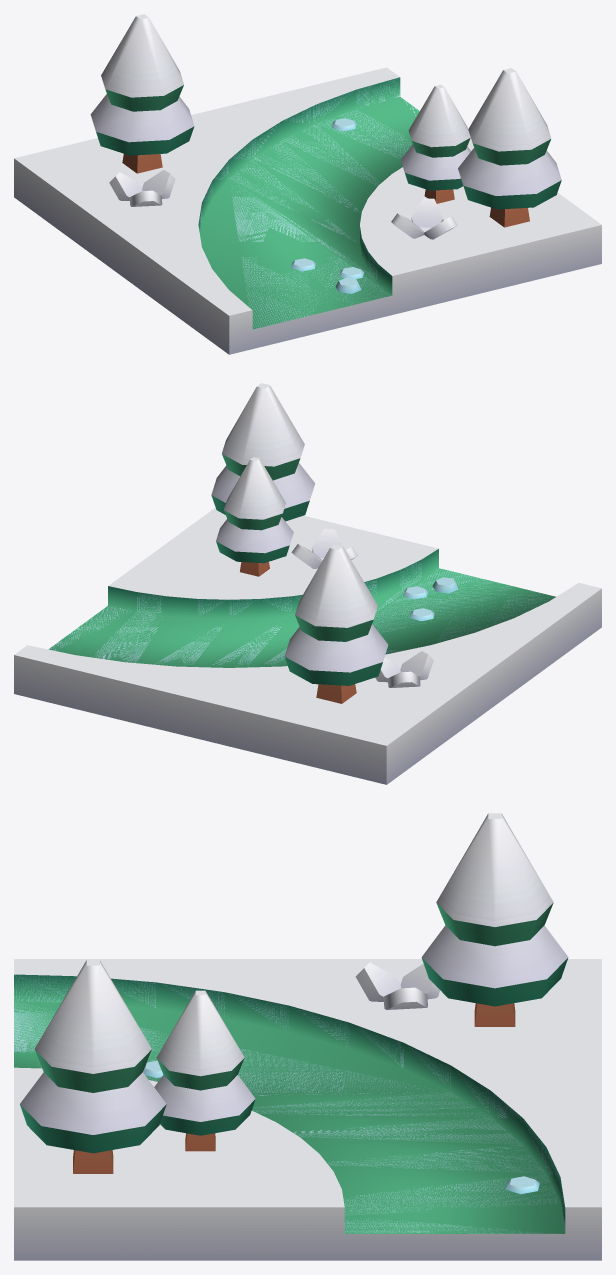
File: snow-tile-corner-large.glb
The picture shows the model from 3 angles, top to bottom: view 1: azimuth 30°, elevation 25°; view 2: azimuth 150°, elevation 25°; view 3: azimuth 270°, elevation 25°; orthographic projection. The views are drawn at different scales.
Visible parts, largest first — view 1: snow-tile-corner-large; view 2: snow-tile-corner-large; view 3: snow-tile-corner-large.
Part boxes in pixels (x1=…): snow-tile-corner-large: x1=14, y1=14, x2=601, y2=354; snow-tile-corner-large: x1=14, y1=383, x2=601, y2=784; snow-tile-corner-large: x1=14, y1=813, x2=601, y2=1260.
Bounding box in the file's own units: 2 × 0.96 × 2.
1 material, 1 textured.
